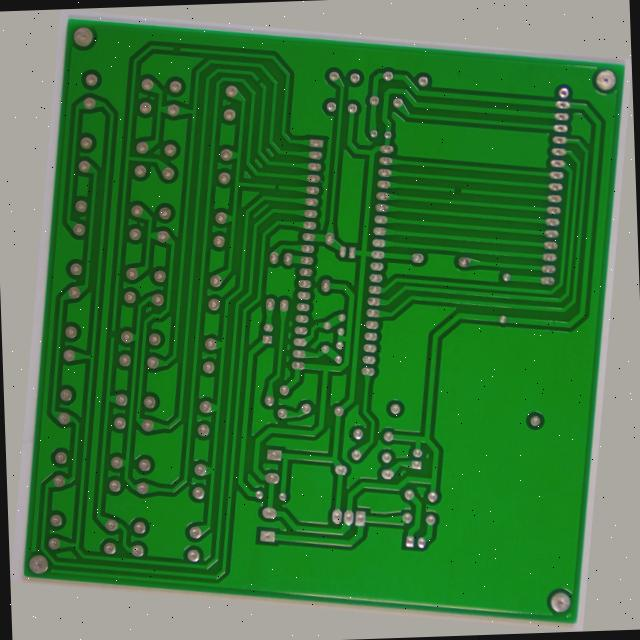open_circuit: (114, 34, 133, 46), (447, 152, 461, 165), (246, 173, 259, 186), (213, 60, 227, 71), (87, 356, 97, 371)
